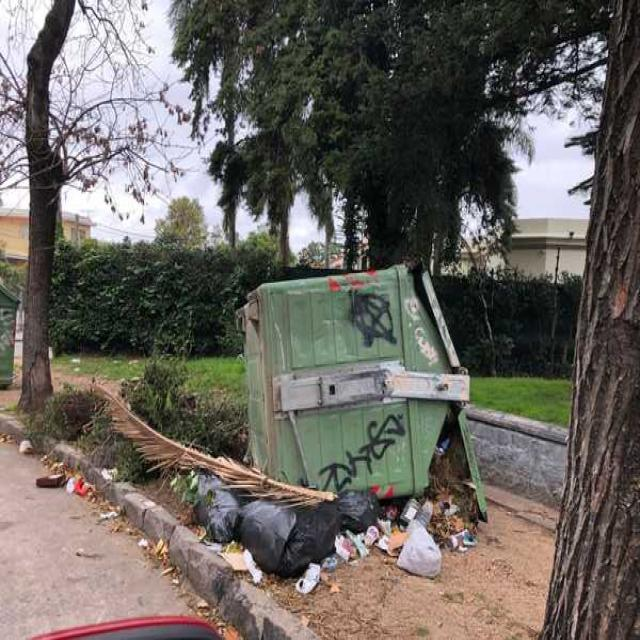garbage: (175, 465, 438, 580), (8, 431, 114, 514), (439, 493, 477, 555)
